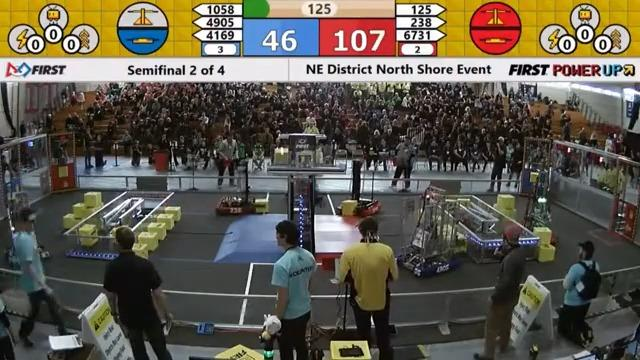robot: (401, 184, 460, 280), (0, 176, 52, 272), (512, 175, 565, 247), (214, 154, 273, 218), (337, 156, 384, 216), (281, 161, 322, 204)
